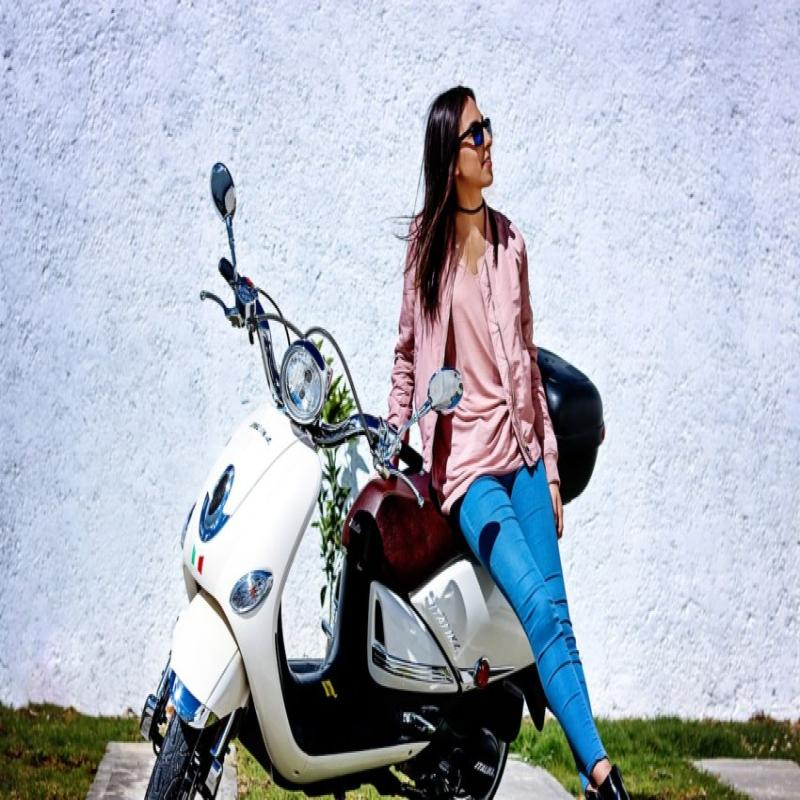bike: (96, 123, 622, 800)
